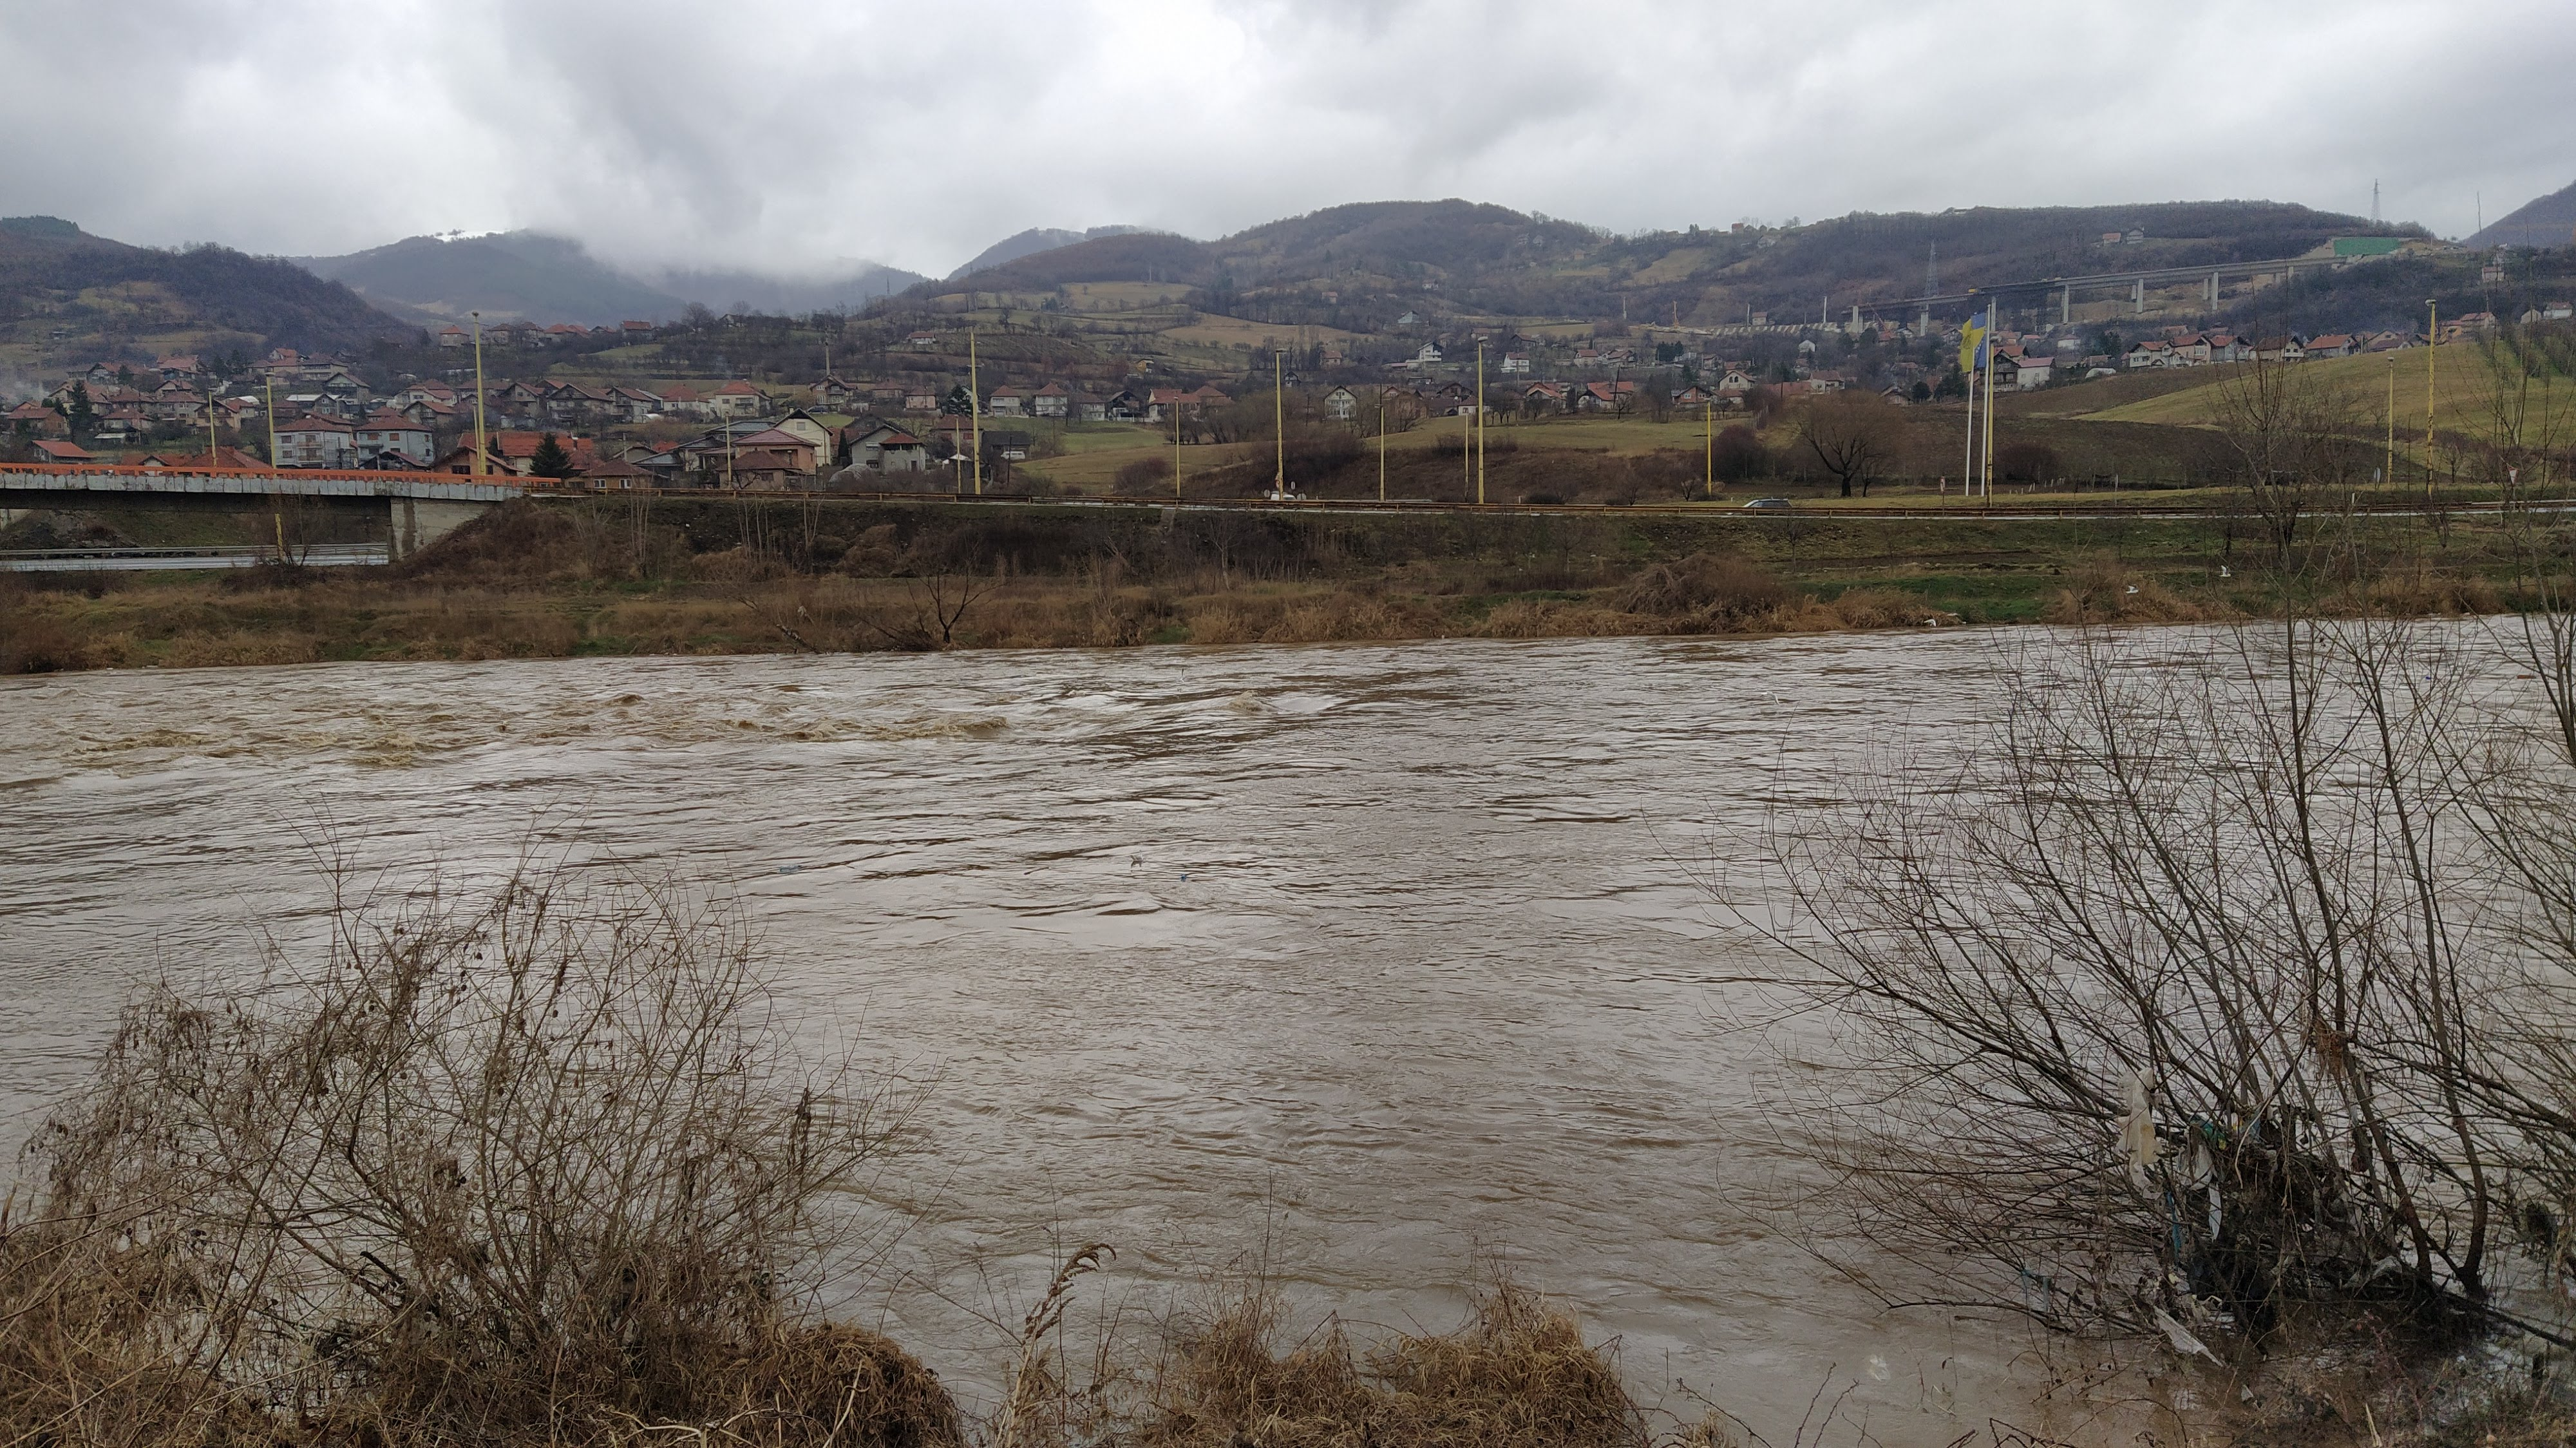Plastic Bottle: (778, 864, 801, 871), (2518, 674, 2535, 680), (1180, 874, 1185, 880), (2424, 676, 2431, 680)
